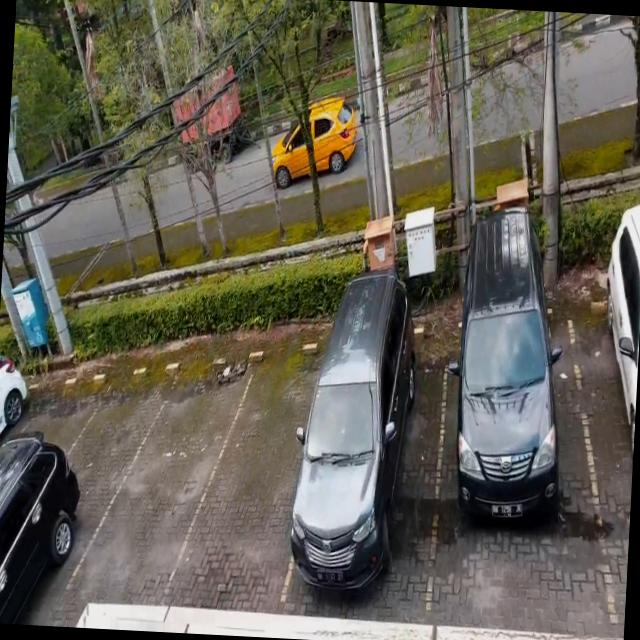car: (428, 288, 584, 599), (289, 314, 450, 612), (570, 282, 638, 607)
free: (200, 341, 310, 611), (108, 352, 220, 607), (43, 362, 138, 600)
